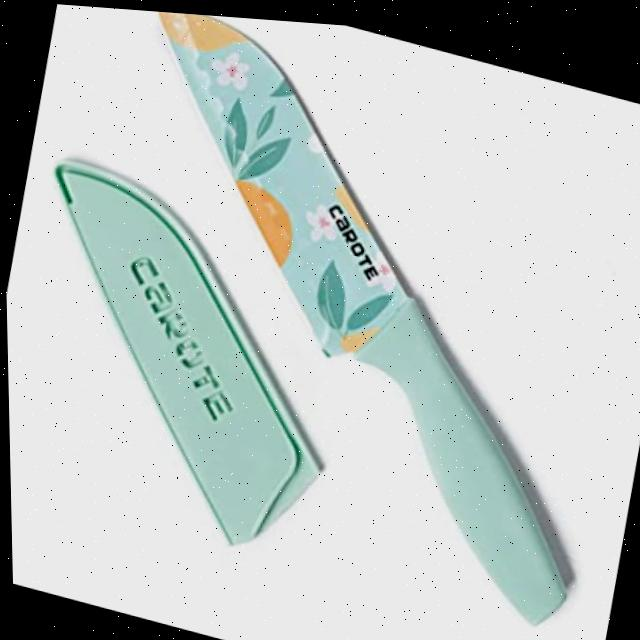knife: (60, 3, 640, 630)
